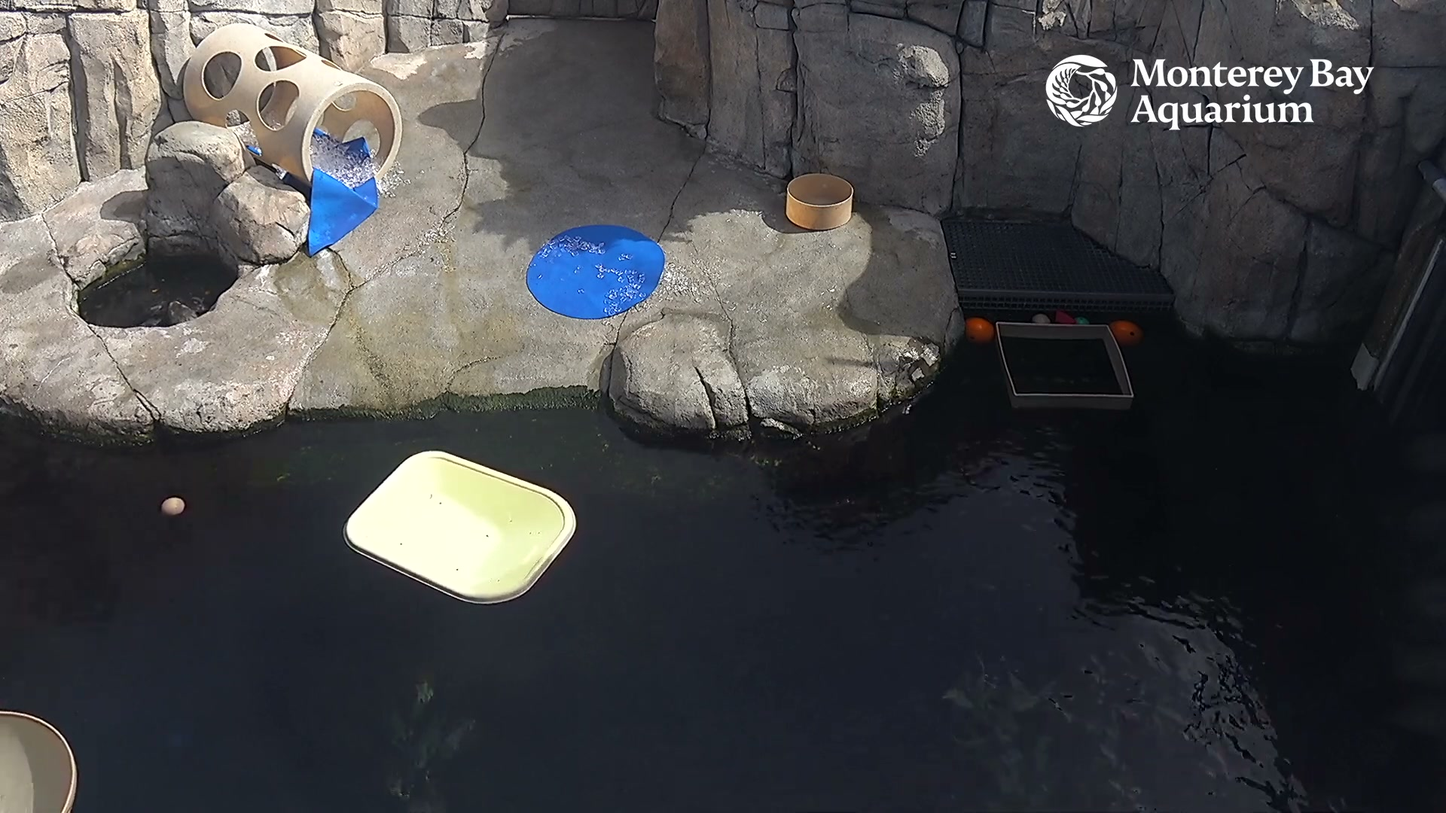Southern Sea Otter: (140, 295, 214, 332)
